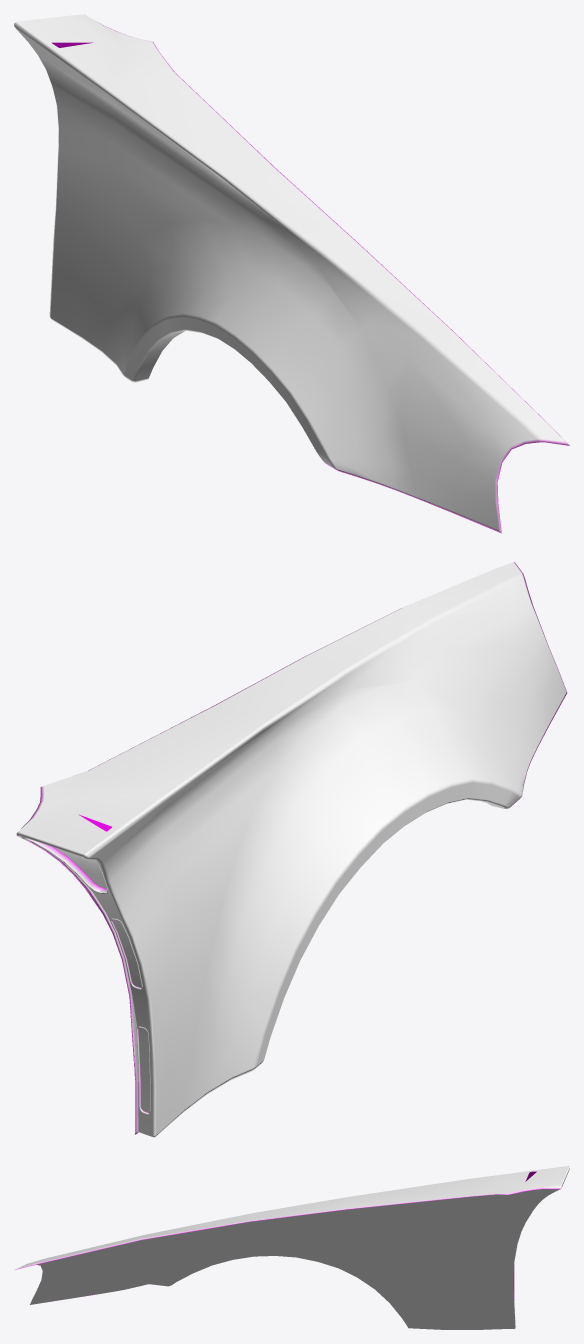
File: Car_Nissan_SkylineGTRVspecR34_1999_FenderFR_SetE.fbx
3 renders of one model, top to bottom at view 1: azimuth 30°, elevation 25°; view 2: azimuth 150°, elevation 25°; view 3: azimuth 270°, elevation 25°, orthographic. The views are drawn at different scales.
Parts seen in each view (by area): view 1: FenderFR 6; view 2: FenderFR 6; view 3: FenderFR 6.
Part boxes in pixels (x1,y1,x2,y2): FenderFR 6: (14, 14, 569, 533); FenderFR 6: (16, 562, 567, 1137); FenderFR 6: (15, 1166, 569, 1329).
Bounding box in the file's own units: 0.2093 × 0.423 × 1.32.
